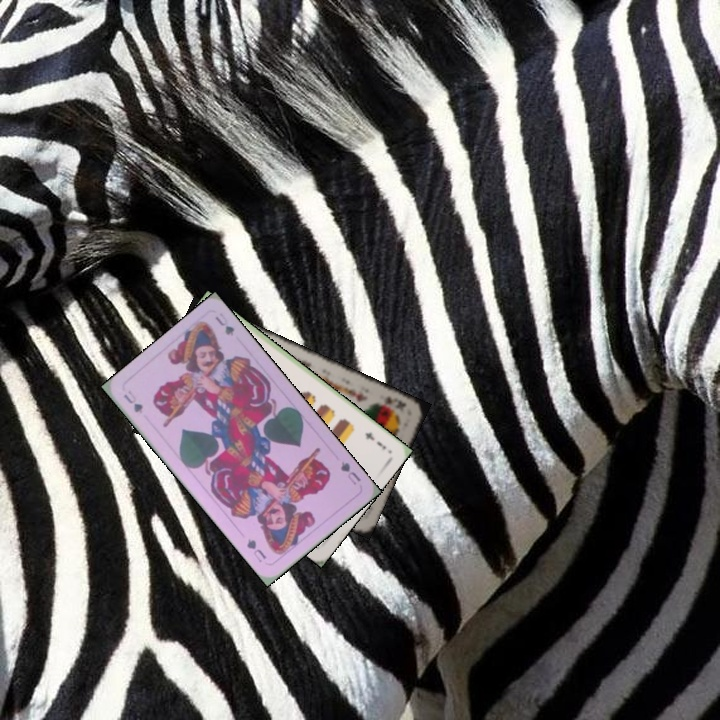E7: (361, 428, 389, 452)
GU: (336, 457, 363, 488), (119, 386, 146, 416)
SK: (381, 393, 408, 414)
